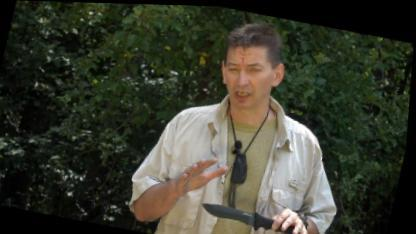knife: (195, 189, 319, 233)
